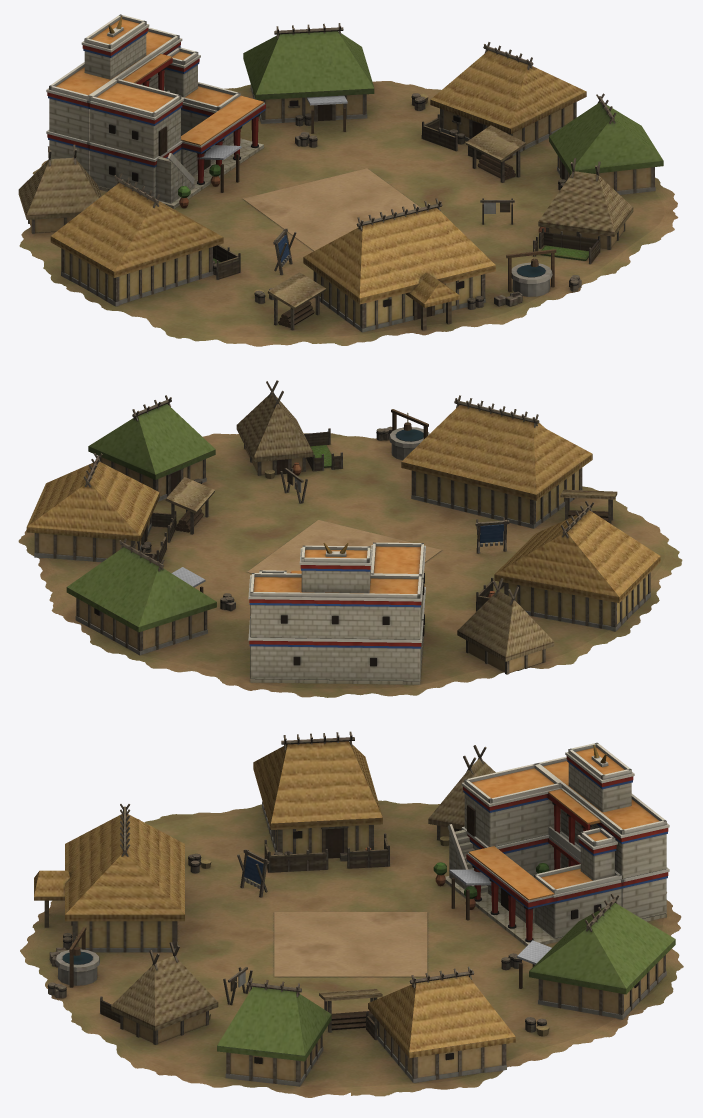
File: bronze-town-small-b-europe-149d144f.glb
The picture shows the model from 3 angles, top to bottom: view 1: azimuth 30°, elevation 25°; view 2: azimuth 150°, elevation 25°; view 3: azimuth 270°, elevation 25°; orthographic projection. The views are drawn at different scales.
Parts seen in each view (by area): view 1: LOD0; view 2: LOD0; view 3: LOD0.
Boxes of the visible parts, <box> form: LOD0: <box>18,14,678,346</box>; LOD0: <box>18,380,682,697</box>; LOD0: <box>20,731,683,1097</box>.
Size of what is drawn, in the model's own units: 3.98 by 0.8738 by 3.71.
3 materials, 3 textured.
